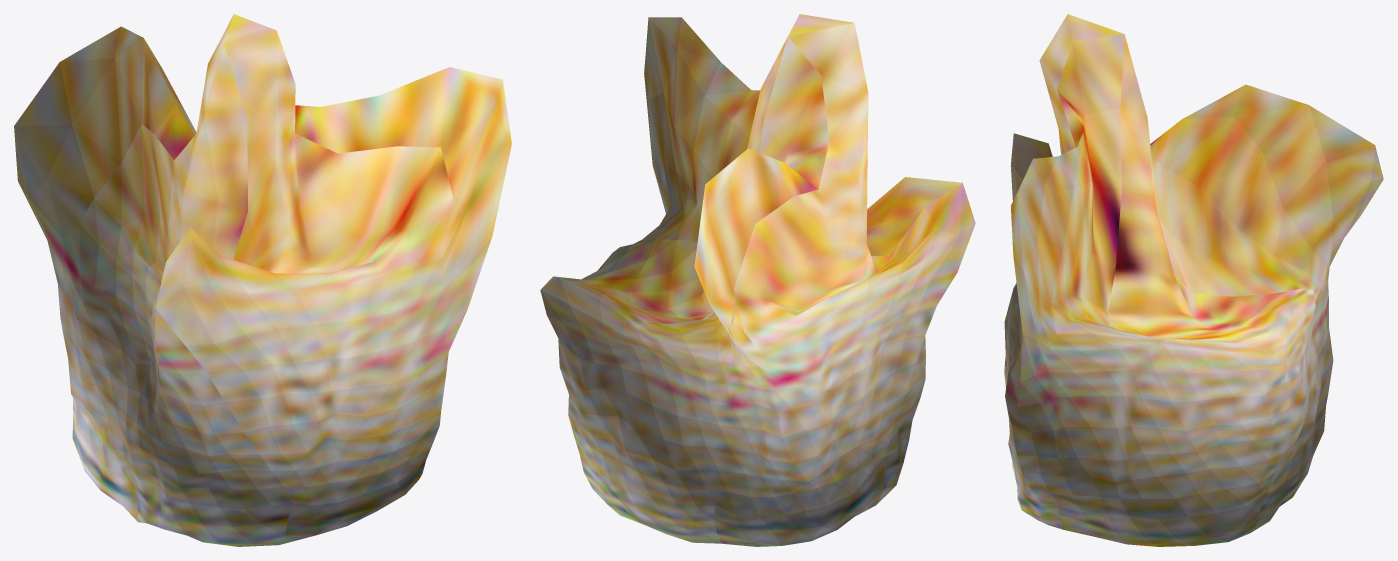
File: french_fries_in_a_basket.gltf
3 views of the same model, side by side, from view 1: azimuth 30°, elevation 25°; view 2: azimuth 150°, elevation 25°; view 3: azimuth 270°, elevation 25° (orthographic). The views are drawn at different scales.
Parts seen in each view (by area): view 1: pMesh1; view 2: pMesh1; view 3: pMesh1.
Part boxes in pixels (x1,y1,x2,y2): pMesh1: [14, 14, 511, 546]; pMesh1: [540, 14, 975, 546]; pMesh1: [1004, 14, 1383, 546].
Bounding box in the file's own units: 2.27 × 3.01 × 2.3.
Materials: 1 (1 with a texture image).
